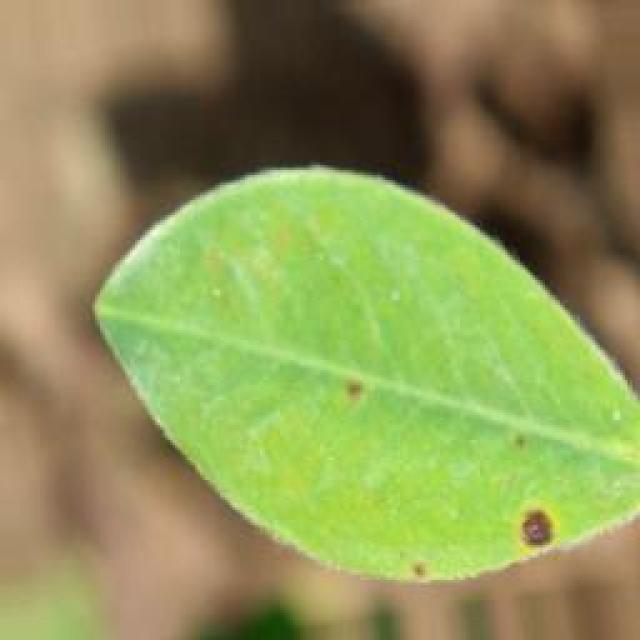Sigatoka: (481, 488, 561, 564), (324, 360, 386, 422), (398, 518, 450, 587), (503, 419, 538, 466)
